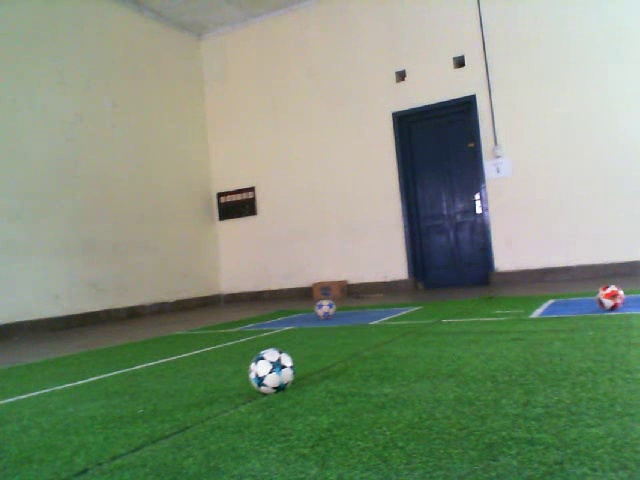ball: (246, 345, 299, 398), (593, 282, 627, 313), (311, 297, 339, 323)
